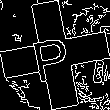P_N: (32, 27, 78, 83)
